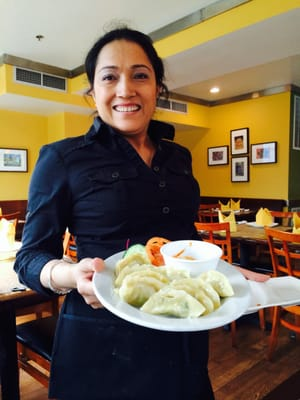sushi: (160, 240, 222, 277)
